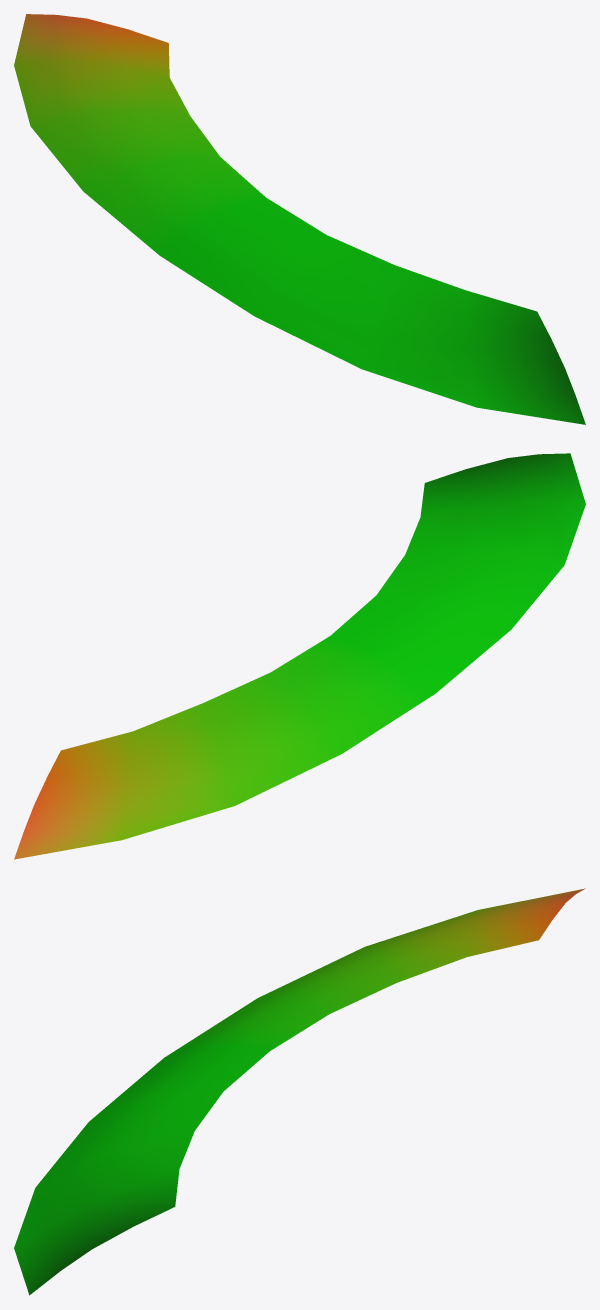
Rendered from uni_scythe.fbx.
3 renders of one model, top to bottom at view 1: azimuth 30°, elevation 25°; view 2: azimuth 150°, elevation 25°; view 3: azimuth 330°, elevation 25°, orthographic.
Visible parts, largest first — view 1: uni_scythe; view 2: uni_scythe; view 3: uni_scythe.
Boxes of the visible parts, x1,y1,x2,y2 form: uni_scythe: (14,14,585,424); uni_scythe: (14,453,585,859); uni_scythe: (14,888,585,1295).
Size of the model in its own units: 12000 by 2400 by 400.
